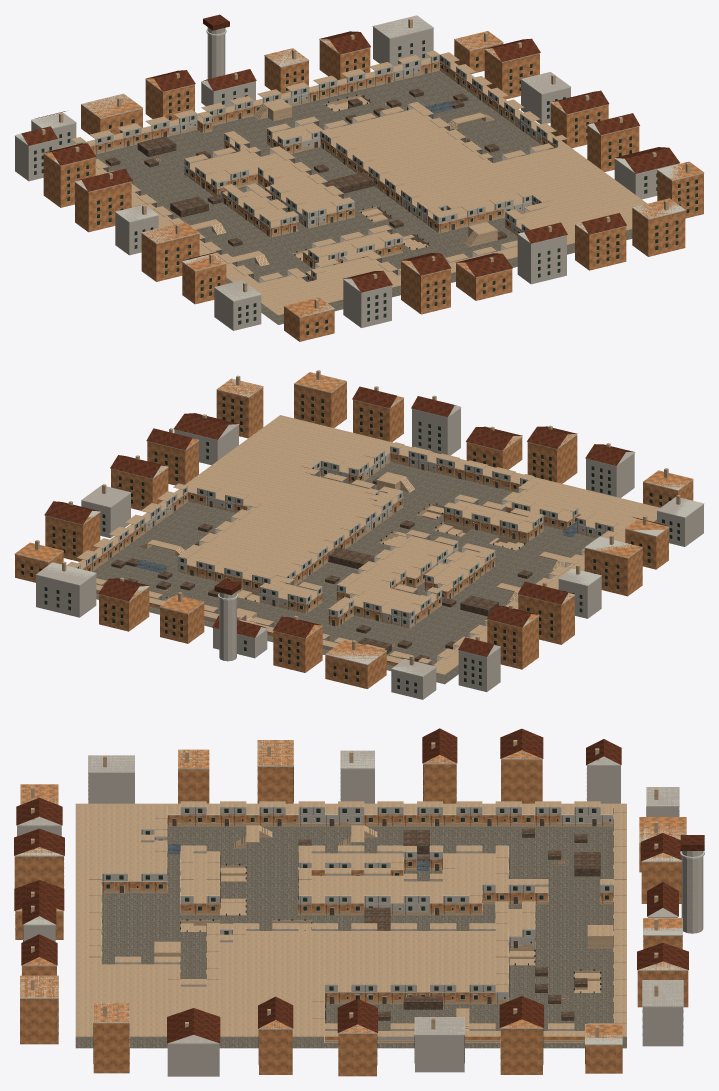
File: inferno.glb
3 views of the same model, one above another, from view 1: azimuth 30°, elevation 25°; view 2: azimuth 150°, elevation 25°; view 3: azimuth 270°, elevation 25° (orthographic). The views are drawn at different scales.
Parts seen in each view (by area): view 1: backdrop_plaster, backdrop_plaster_light, 1_1_limestone, 1_0_limestone, backdrop_roof, 0_1_limestone, 0_0_limestone, 1_0_ground, 0_0_ground, backdrop_trim, 0_1_ground, backdrop_shutter (+21 smaller); view 2: backdrop_plaster, 1_1_limestone, backdrop_plaster_light, backdrop_roof, 0_1_limestone, 1_0_limestone, 0_0_limestone, 0_0_ground, 1_0_ground, 0_1_ground, backdrop_trim, 1_1_ground (+18 smaller); view 3: backdrop_plaster, 1_1_limestone, backdrop_plaster_light, 0_1_limestone, 1_0_limestone, backdrop_roof, 0_0_limestone, 0_1_ground, 0_0_ground, 1_0_ground, backdrop_trim, 1_1_ground (+20 smaller).
Part boxes in pixels (x1,y1,x2,y2): backdrop_plaster: (43,31,703,341); backdrop_plaster_light: (15,16,657,330); 1_1_limestone: (379,131,646,260); 1_0_limestone: (253,50,556,189); backdrop_roof: (21,14,679,292); 0_1_limestone: (175,185,468,315); 0_0_limestone: (57,96,329,229); 1_0_ground: (259,70,540,194); 0_0_ground: (95,116,360,233); backdrop_trim: (14,15,704,335); 0_1_ground: (201,194,455,324); backdrop_shutter: (34,40,697,335); backdrop_plaster: (15,372,693,688); 1_1_limestone: (173,415,467,548); backdrop_plaster_light: (36,405,703,699); backdrop_roof: (44,386,667,665); 0_1_limestone: (390,460,660,589); 1_0_limestone: (66,491,344,623); 0_0_limestone: (250,549,547,674); 0_0_ground: (267,566,514,684); 1_0_ground: (92,509,345,627); 0_1_ground: (364,480,656,587); backdrop_trim: (14,372,704,693); 1_1_ground: (177,462,463,553); backdrop_plaster: (14,740,688,1076); 1_1_limestone: (75,912,351,1042); backdrop_plaster_light: (17,750,703,1076); 0_1_limestone: (75,801,351,925); 1_0_limestone: (351,912,626,1043); backdrop_roof: (14,728,704,1043); 0_0_limestone: (351,801,626,919); 0_1_ground: (102,826,351,931); 0_0_ground: (351,826,613,931); 1_0_ground: (371,932,626,1048); backdrop_trim: (14,740,704,1064); 1_1_ground: (75,932,344,1048).
Bounding box in the file's own units: 209 × 33.45 × 211.
15 materials, 10 textured.
